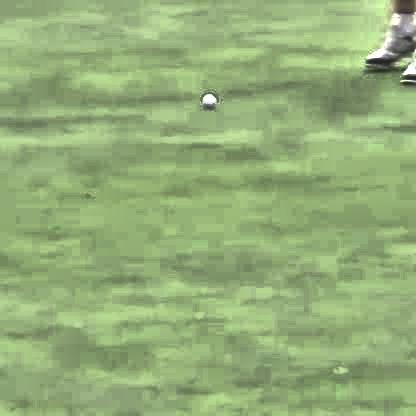golfball: (199, 91, 215, 107)
